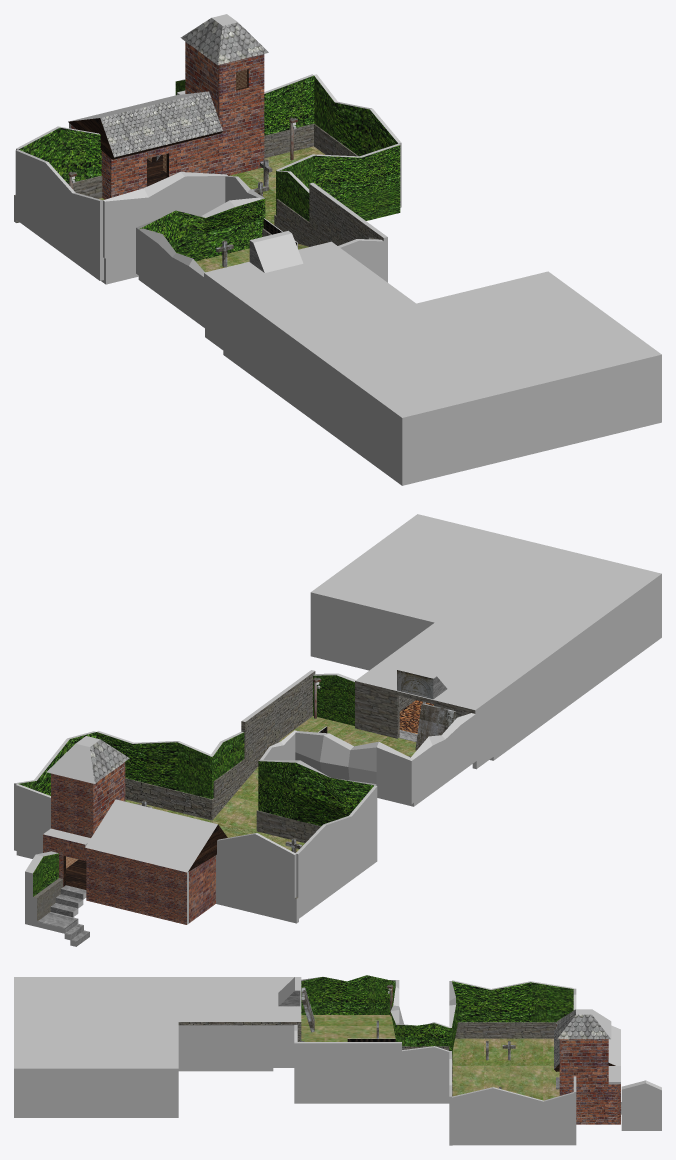
3 renders of one model, top to bottom at view 1: azimuth 30°, elevation 25°; view 2: azimuth 150°, elevation 25°; view 3: azimuth 270°, elevation 25°, orthographic. The views are drawn at different scales.
Parts seen in each view (by area): view 1: Graveyard_Cube.001; view 2: Graveyard_Cube.001; view 3: Graveyard_Cube.001.
Boxes of the visible parts, x1,y1,x2,y2 form: Graveyard_Cube.001: [14, 14, 661, 485]; Graveyard_Cube.001: [14, 514, 661, 946]; Graveyard_Cube.001: [14, 975, 661, 1145].
Bounding box in the file's own units: 28.8 × 15.4 × 74.
Materials: 16 (15 with a texture image).
